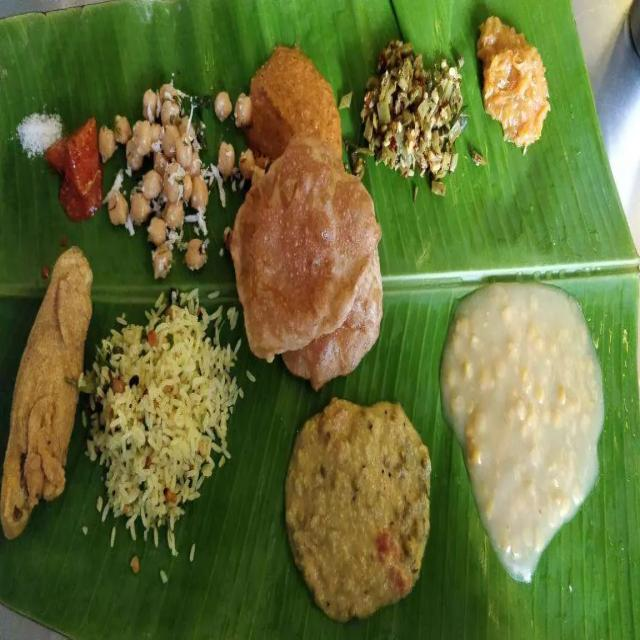veg meals: (0, 4, 613, 638)
